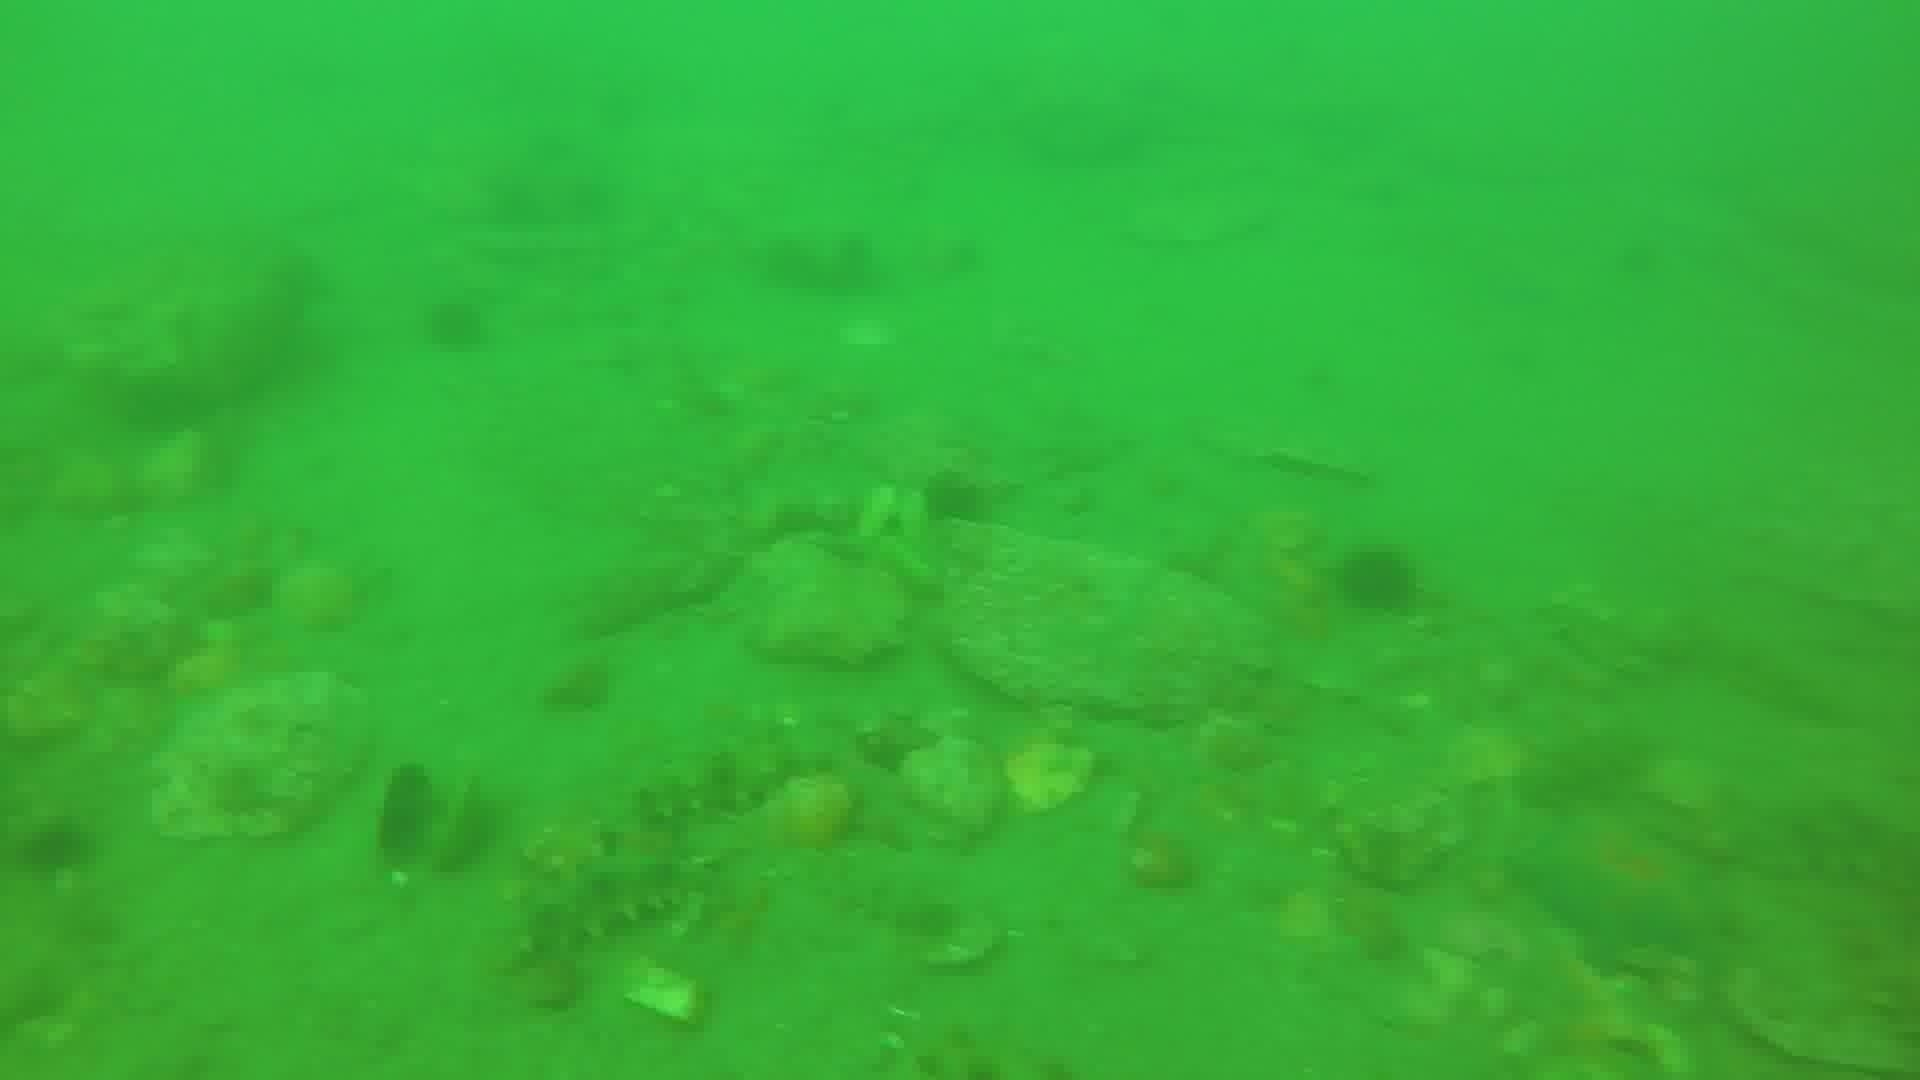echinus: (1333, 542, 1424, 620), (15, 812, 99, 884), (915, 467, 996, 531), (419, 291, 495, 357)
holothurian: (1654, 779, 1913, 889), (505, 844, 703, 963), (622, 735, 810, 832)
starfish: (1513, 810, 1718, 967)
